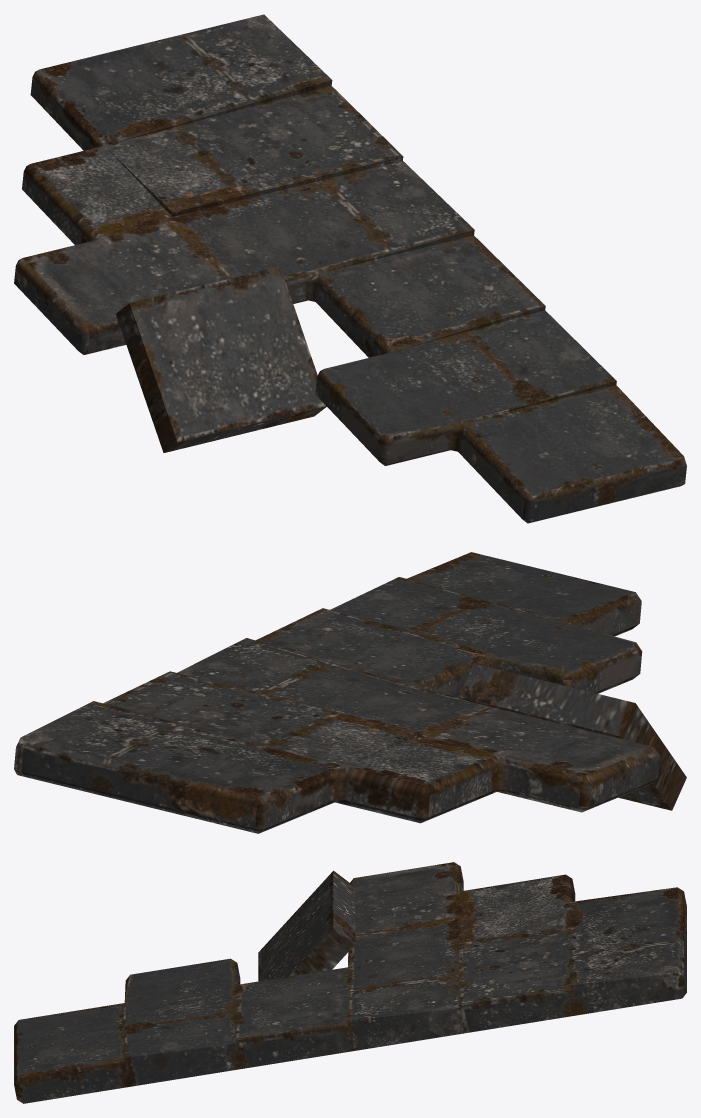
The model's file is WallRoofSmall_BrokenTopL.fbx.
3 renders of one model, top to bottom at view 1: azimuth 30°, elevation 25°; view 2: azimuth 150°, elevation 25°; view 3: azimuth 270°, elevation 25°, orthographic. The views are drawn at different scales.
Parts seen in each view (by area): view 1: WallRoof_BrokenTopL_LOD0; view 2: WallRoof_BrokenTopL_LOD0; view 3: WallRoof_BrokenTopL_LOD0.
Boxes of the visible parts, x1,y1,x2,y2 form: WallRoof_BrokenTopL_LOD0: (14,14,686,523); WallRoof_BrokenTopL_LOD0: (14,552,686,833); WallRoof_BrokenTopL_LOD0: (14,862,686,1103).
Size of what is drawn, in the model's own units: 62.3 by 25.53 by 119.
